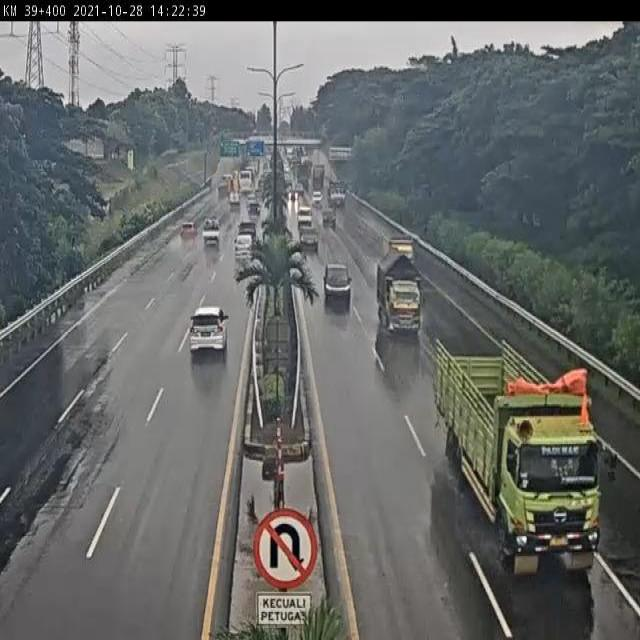truck-l-: (435, 341, 600, 575)
truck-s-: (377, 249, 429, 340)
